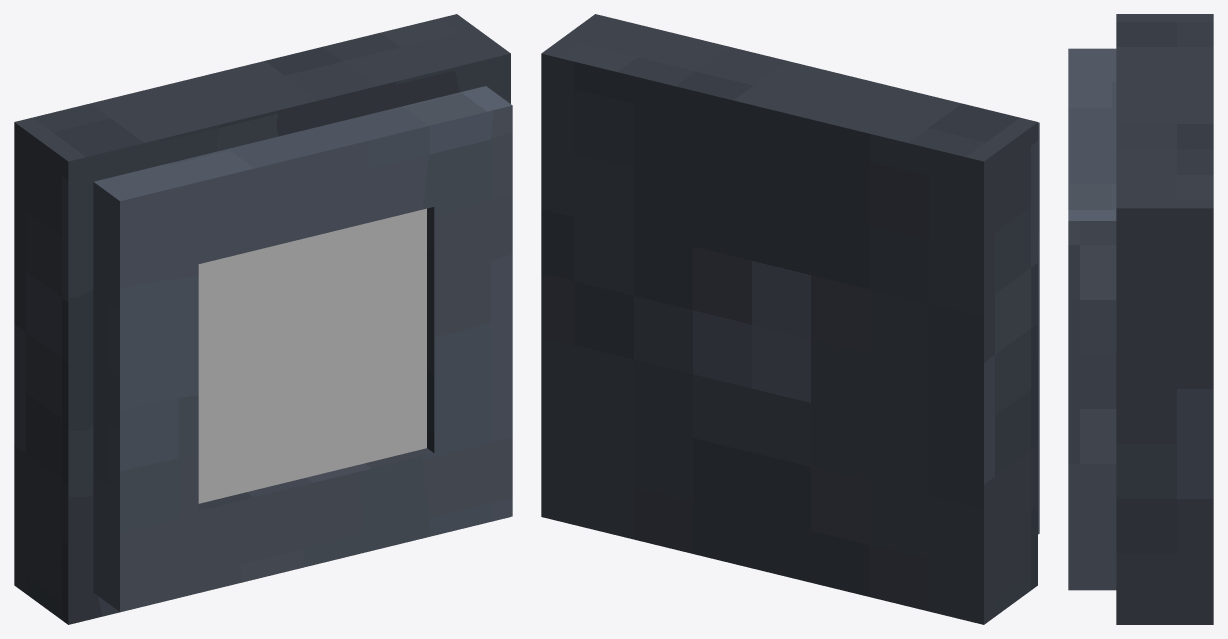
Rendered from lux_capacitor.obj.
3 views of the same model, side by side, from view 1: azimuth 30°, elevation 25°; view 2: azimuth 150°, elevation 25°; view 3: azimuth 270°, elevation 25° (orthographic). The views are drawn at different scales.
Parts seen in each view (by area): view 1: lightBaseUpper, lightBaseLower, lightlens; view 2: lightBaseLower, lightBaseUpper; view 3: lightBaseLower, lightBaseUpper.
Boxes of the visible parts, bbox=[...] form: lightBaseUpper: bbox=[93, 86, 512, 611]; lightBaseLower: bbox=[14, 14, 510, 624]; lightlens: bbox=[198, 208, 426, 503]; lightBaseLower: bbox=[541, 14, 1037, 624]; lightBaseUpper: bbox=[1038, 122, 1039, 534]; lightBaseLower: bbox=[1116, 14, 1213, 624]; lightBaseUpper: bbox=[1068, 48, 1116, 590].
Size of the model in its own units: 0.8063 by 0.8063 by 0.2549.
